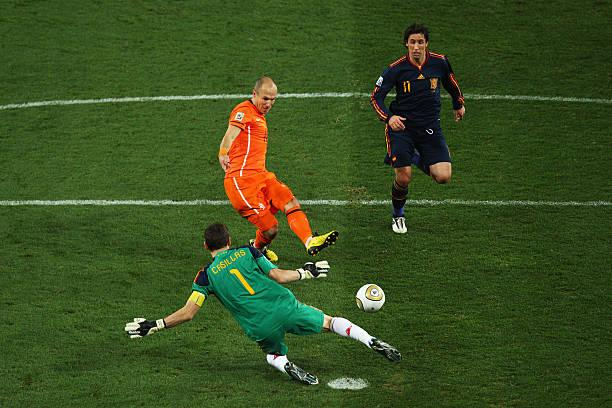Goalkeeper: (126, 222, 400, 385)
Player: (219, 76, 338, 261), (371, 24, 466, 234)
ball: (356, 284, 385, 313)
